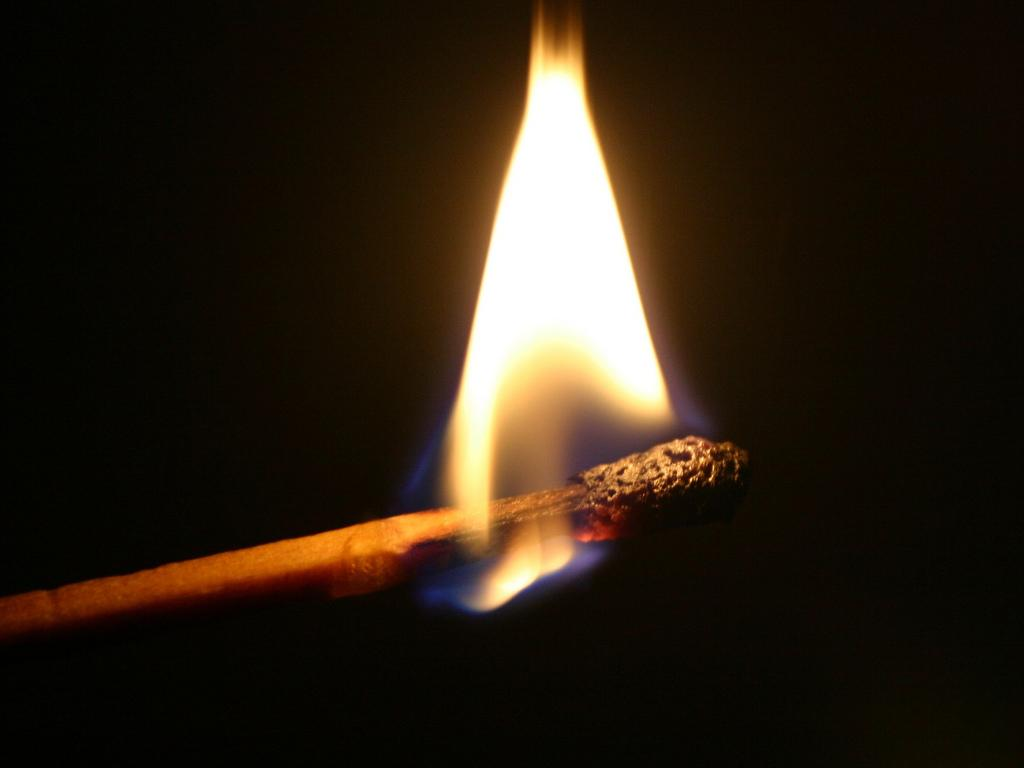fire: (478, 62, 674, 432)
